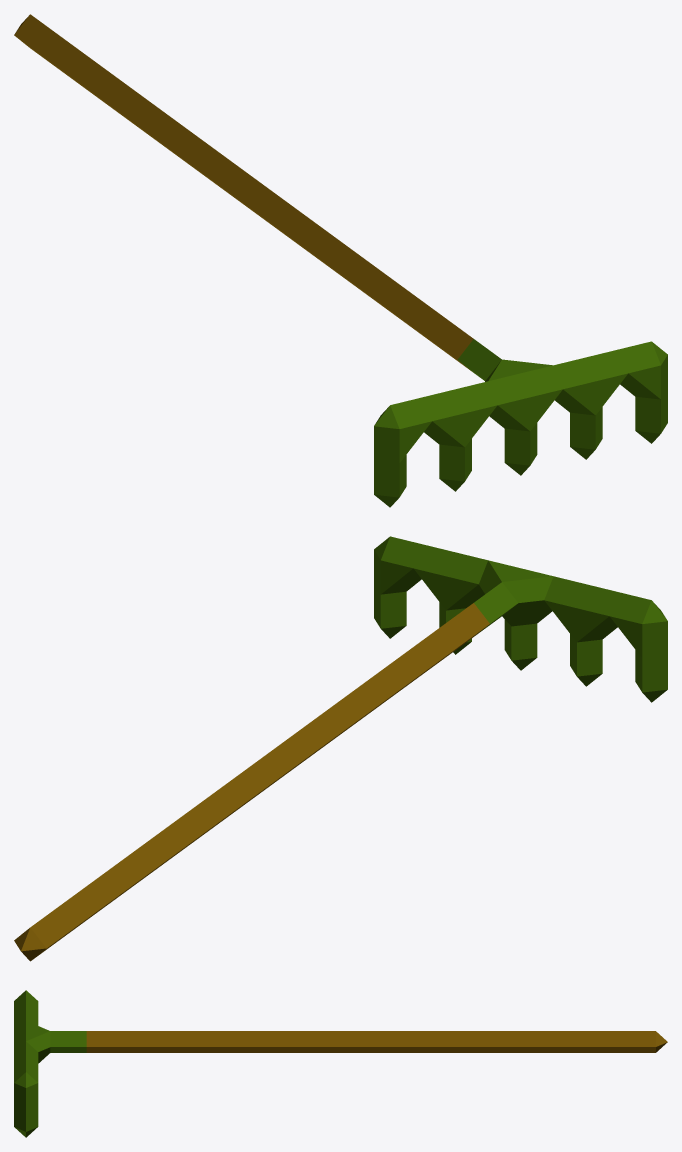
File: rc_rake.fbx
The picture shows the model from 3 angles, top to bottom: view 1: azimuth 30°, elevation 25°; view 2: azimuth 150°, elevation 25°; view 3: azimuth 270°, elevation 25°; orthographic projection. The views are drawn at different scales.
Parts seen in each view (by area): view 1: rc_rake; view 2: rc_rake; view 3: rc_rake.
Part boxes in pixels (x1=…): rc_rake: x1=14, y1=14, x2=667, y2=507; rc_rake: x1=14, y1=536, x2=667, y2=961; rc_rake: x1=14, y1=990, x2=667, y2=1137.
Size of the model in its own units: 900 by 300 by 2700.
